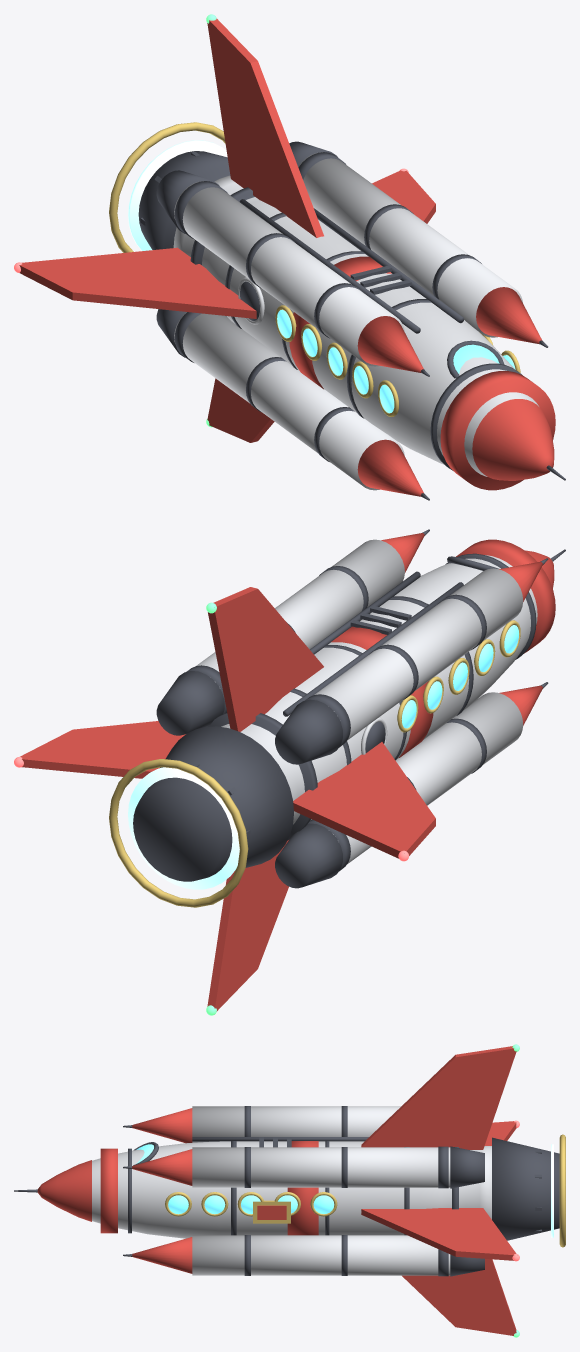
File: Rocket.glb
The picture shows the model from 3 angles, top to bottom: view 1: azimuth 30°, elevation 25°; view 2: azimuth 150°, elevation 25°; view 3: azimuth 270°, elevation 25°; orthographic projection. The views are drawn at different scales.
Parts seen in each view (by area): view 1: Rocket; view 2: Rocket; view 3: Rocket.
Boxes of the visible parts, x1=… form: Rocket: x1=14, y1=14, x2=565, y2=500; Rocket: x1=14, y1=529, x2=565, y2=1015; Rocket: x1=14, y1=1044, x2=565, y2=1337.
Bounding box in the file's own units: 9.32 × 9.32 × 15.94.
